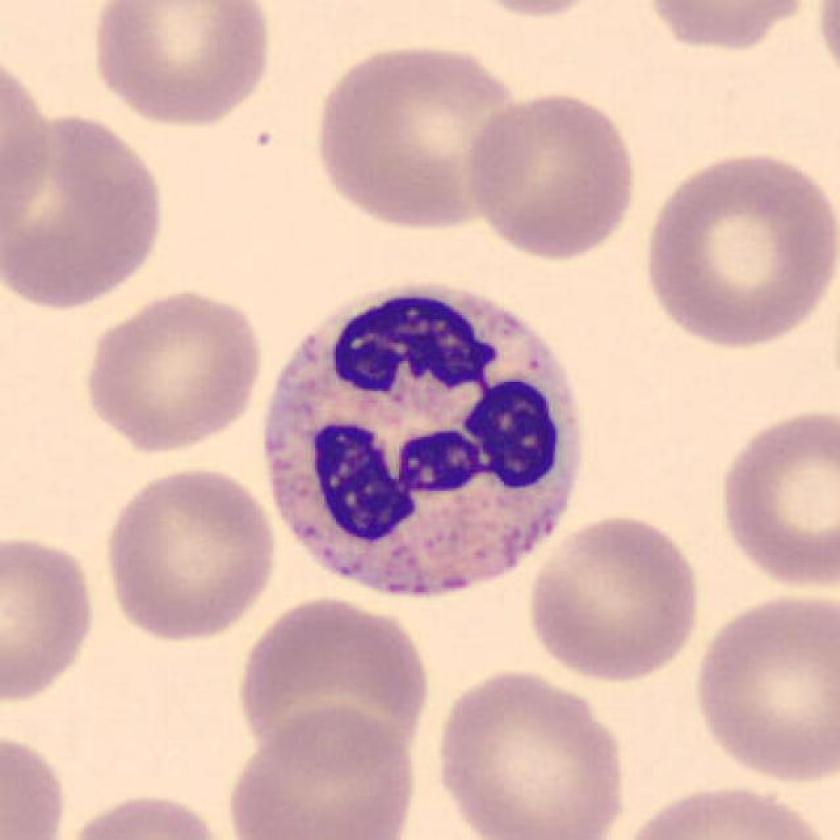neutrophil: (265, 281, 578, 593)
